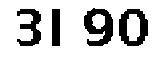0: (118, 5, 151, 49)
3: (10, 4, 45, 50)
9: (80, 8, 116, 50)
I: (48, 5, 67, 52)
